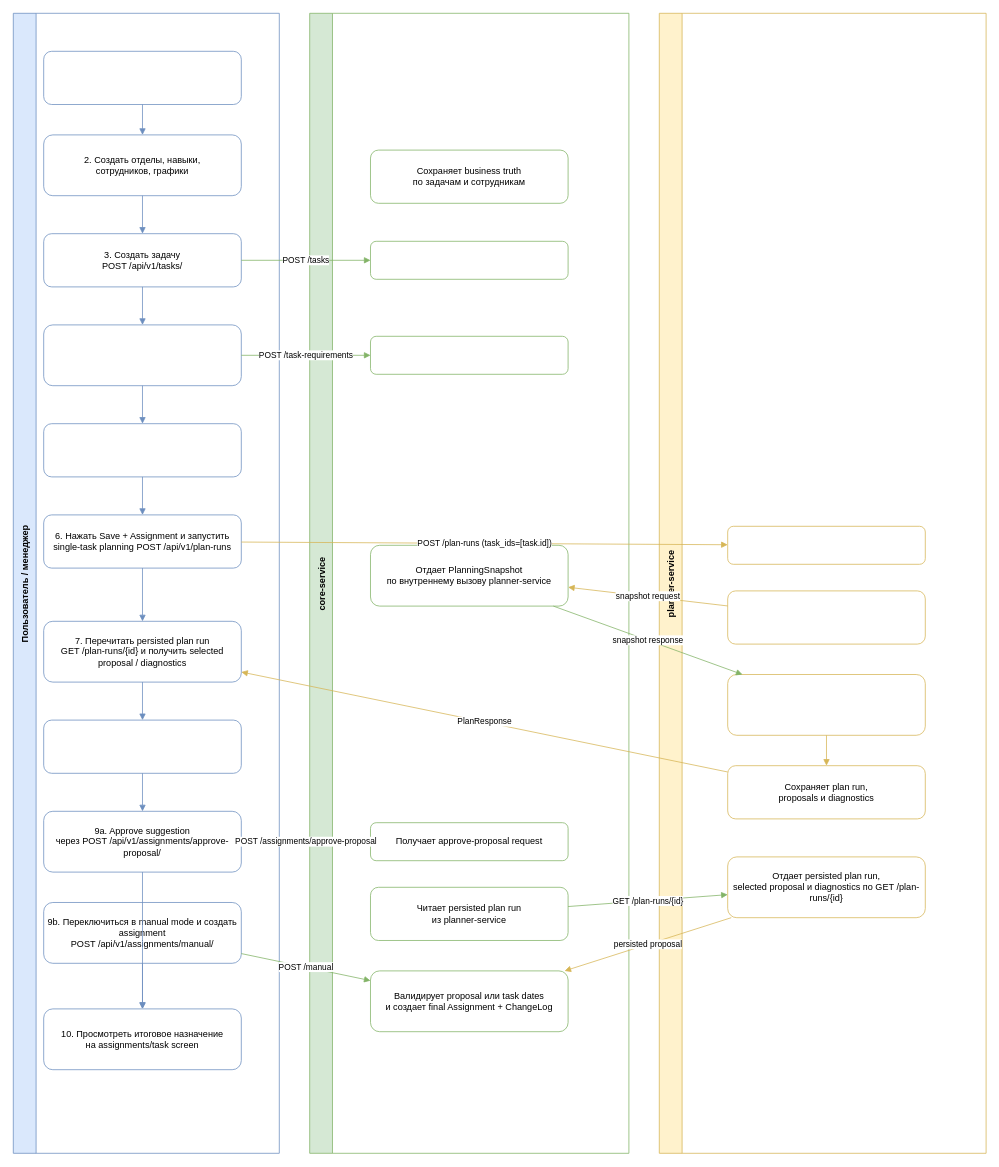
This 999x1167 diagram has some shape labels left out. Each missing label, with the centre of its shape:
"1. Войти во frontend-app /login или /signup" belongs at point (142, 77).
"4. Добавить требования в /tasks/new через POST /api/v1/task-requirements/" belongs at point (142, 355).
"5. Открыть /tasks/new, сохранить Task и остаться в wizard" belongs at point (142, 450).
"8. Открыть modal: system suggestion или manual assignment fallback" belongs at point (142, 746).
"Eligibility -> Scoring -> CP-SAT -> Diagnostics" belongs at point (826, 704).
"POST /api/v1/planning-snapshot/ в core-service" belongs at point (826, 617).
"Получает CreatePlanRunRequest" belongs at point (826, 545).
"Создает Task record" belongs at point (469, 260).
"Создает TaskRequirement records" belongs at point (469, 355).
